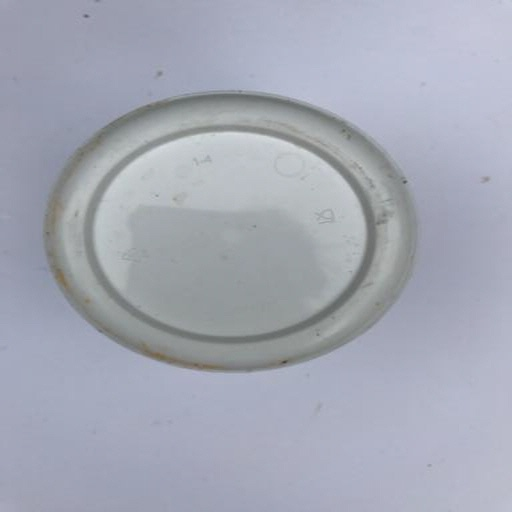Plastic_5: (41, 91, 416, 375)
